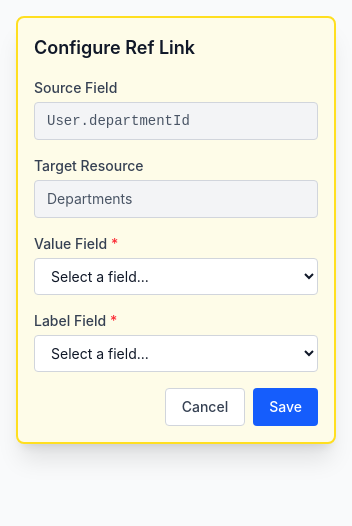
Scenario: RefLinkConfigForm › should clear validation error when user selects a valueField
Click the button with test id "save-button". click: (286, 407)
box: [253,388,318,426]
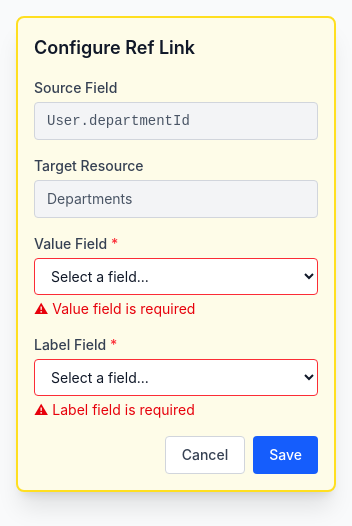
Expected: the message "⚠ Value field is required" is shown, [34,300,196,317]
Select "Department.id" in the dropdown with test id "value-field-select". click: (176, 276)
box: [34,258,318,295]
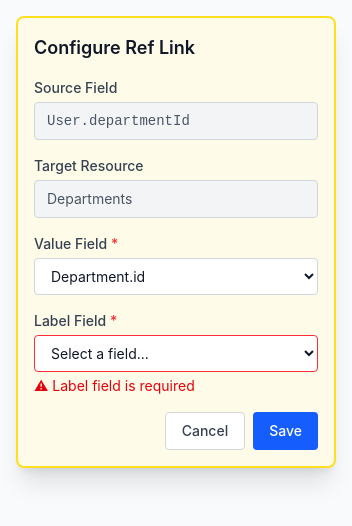
Expected: the message with test id "value-field-error" is gone
